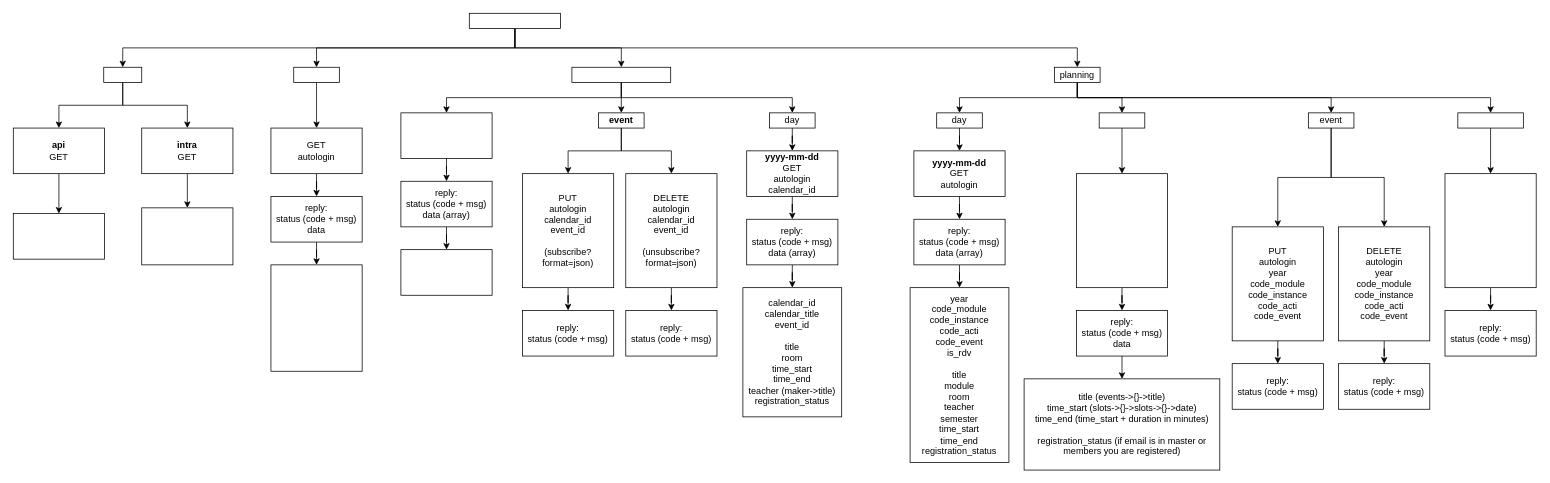
This 1550x483 diagram has some shape labels left out. The box of each missing label's shape, as (x1, y1, x2, y2) in pixels:
api.epi.today: (469, 13, 560, 28)
calendar_id calendar_title: (400, 249, 492, 295)
custom_planning: (571, 66, 671, 82)
GET autologin year code_module code_instance code_acti email: (1076, 173, 1168, 288)
health: (103, 66, 142, 82)
list GET autologin: (400, 112, 492, 158)
name email city year semester credits gpa log: (270, 264, 362, 371)
PUT autologin year code_module code_instance code_acti code_event token: (1444, 173, 1536, 288)
rdv: (1098, 112, 1145, 128)
status (code + msg) https://intra.epitech.eu/?format=json: (141, 207, 233, 265)
status (code + msg) uptime: (13, 213, 104, 259)
token: (1457, 112, 1523, 128)
user: (293, 66, 339, 82)
